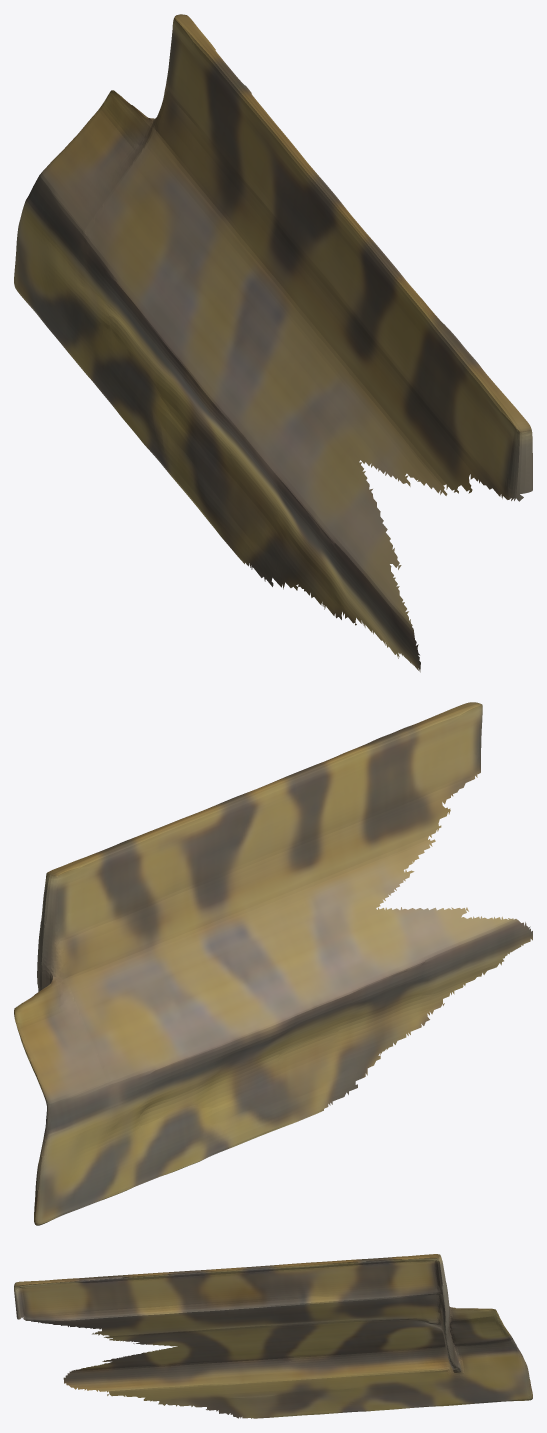
The model's file is guard-left.glb.
The picture shows the model from 3 angles, top to bottom: view 1: azimuth 30°, elevation 25°; view 2: azimuth 150°, elevation 25°; view 3: azimuth 270°, elevation 25°; orthographic projection. The views are drawn at different scales.
Parts seen in each view (by area): view 1: geometry_0; view 2: geometry_0; view 3: geometry_0.
Part boxes in pixels (x1,y1,x2,y2): geometry_0: [14, 14, 532, 672]; geometry_0: [14, 702, 532, 1225]; geometry_0: [14, 1254, 532, 1418].
Size of the model in its own units: 0.5277 by 1.15 by 2.8.
